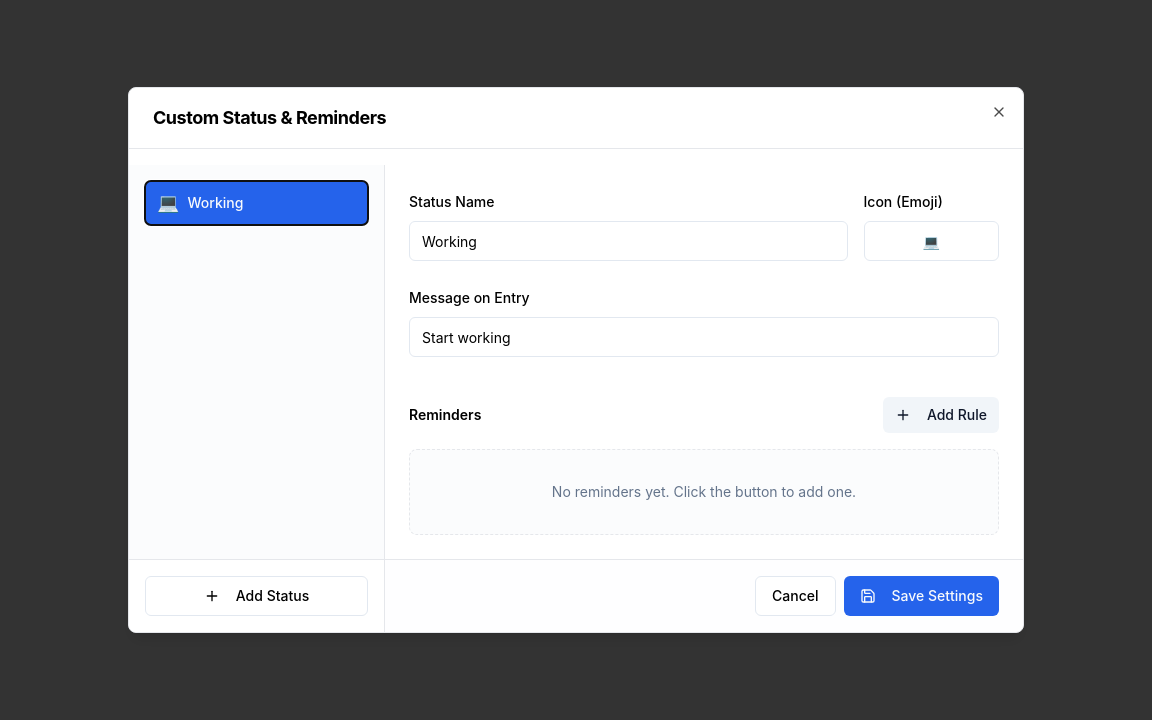
Test: StatusSettingsModal › should add new status
Step 1. Click the button "Add Status" → [256, 596], box [145,576,368,616]
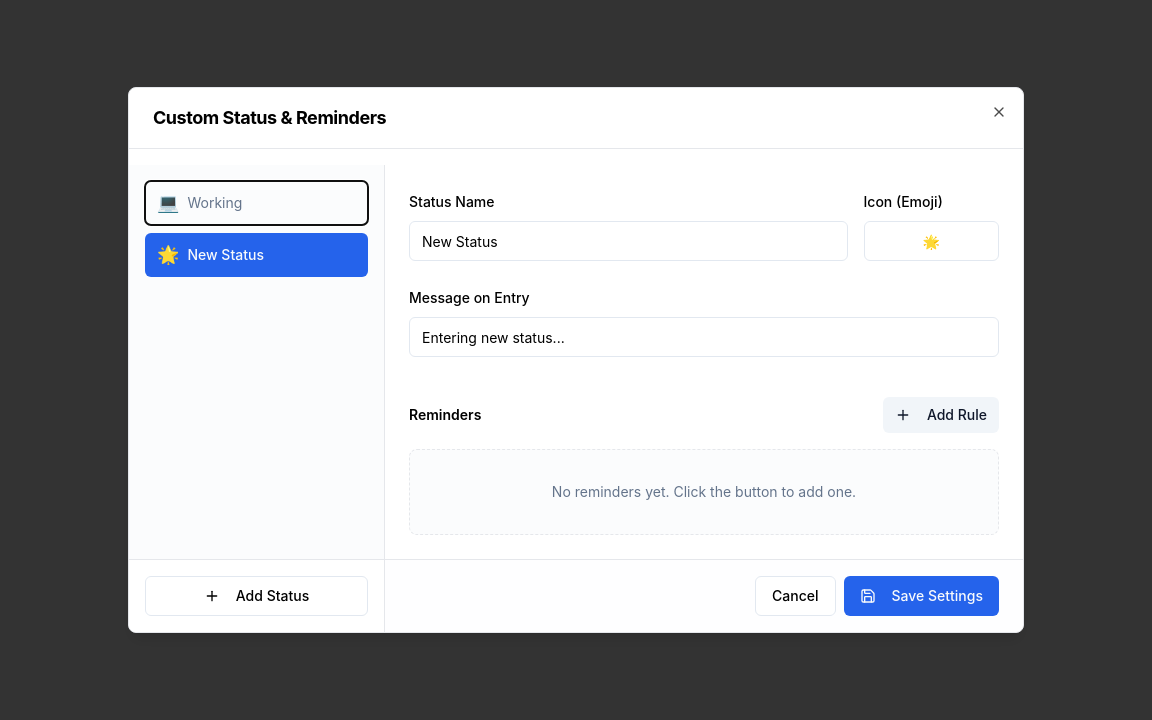
expect the text "New Status" is shown: met, box [188,245,264,265]
